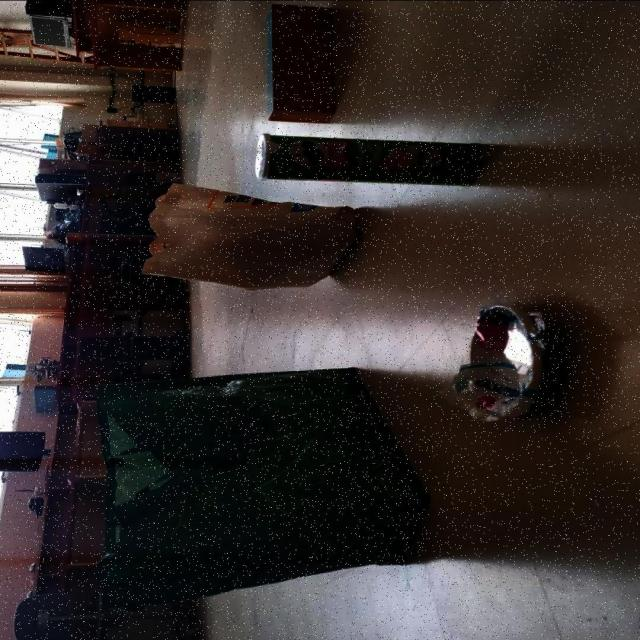Bag: (92, 364, 424, 604), (143, 180, 357, 288)
Plate: (458, 302, 550, 420)
Pringles: (253, 132, 484, 184)
